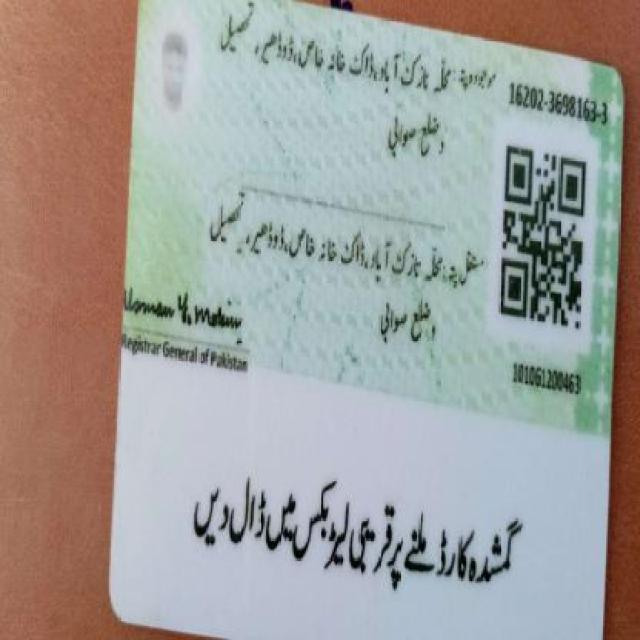Back: (105, 2, 620, 629)
